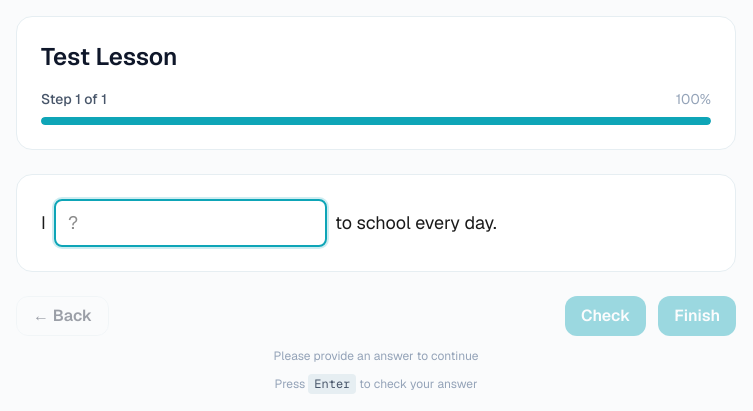
Test case: LessonPlayer › UX Rules › should disable Check button until user provides answer for fill_blank
Check: the button "Check" is disabled, box top-left (565, 296), bottom-right (646, 336)
Note: Type an answer
Type "go" into the field with placeholder "?" at (190,223), box top-left (54, 199), bottom-right (327, 247)
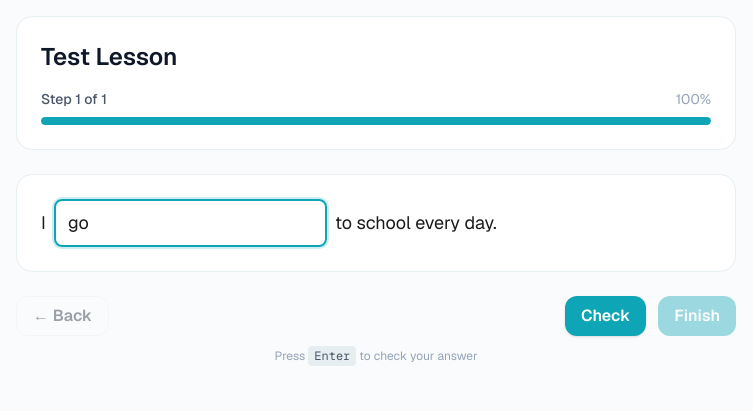
Check: the button "Check" is enabled, box top-left (565, 296), bottom-right (646, 336)
